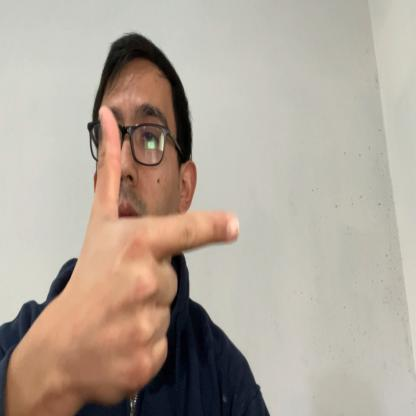G: (80, 107, 240, 403)
